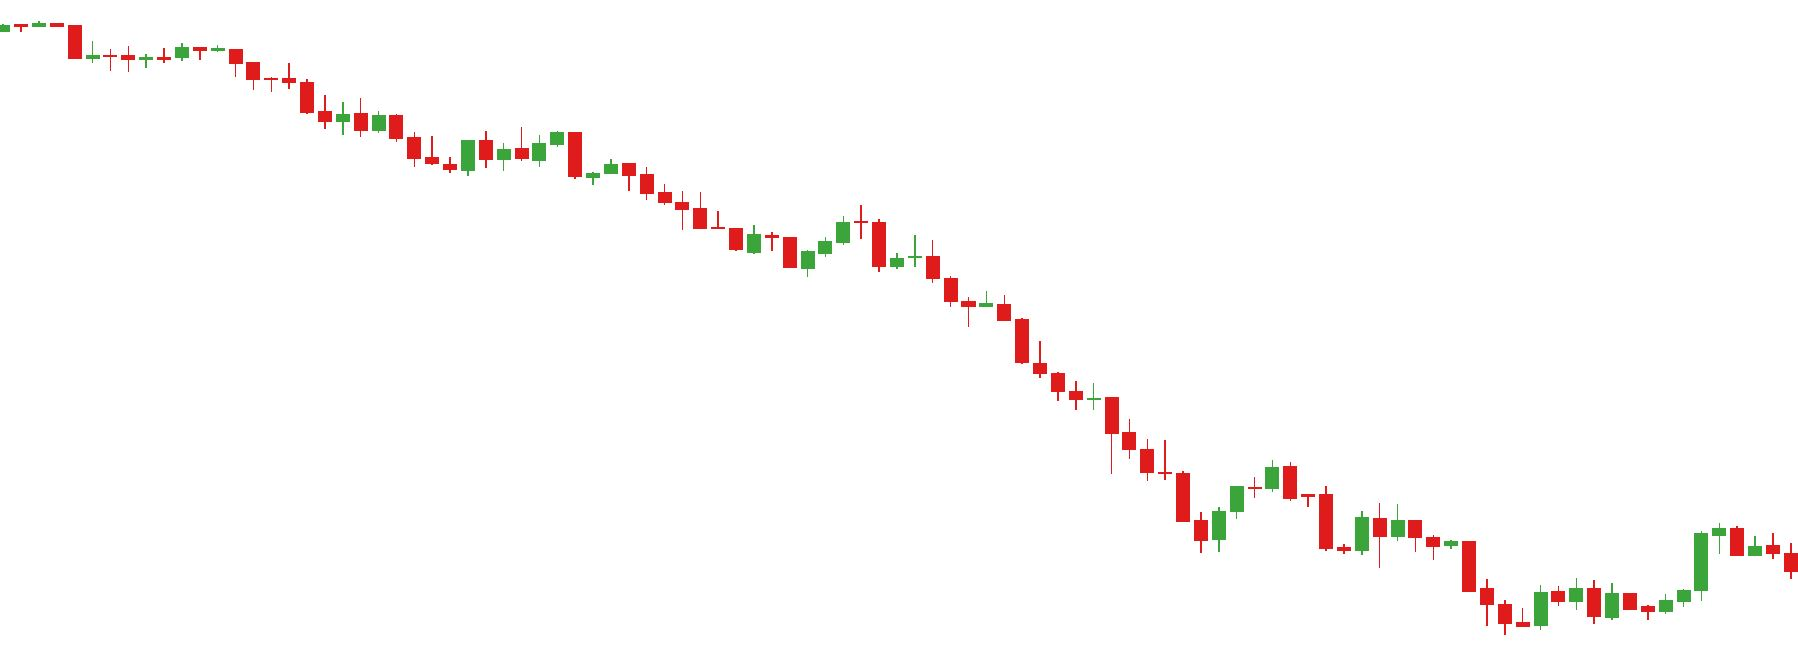sell: (746, 203, 891, 253)
